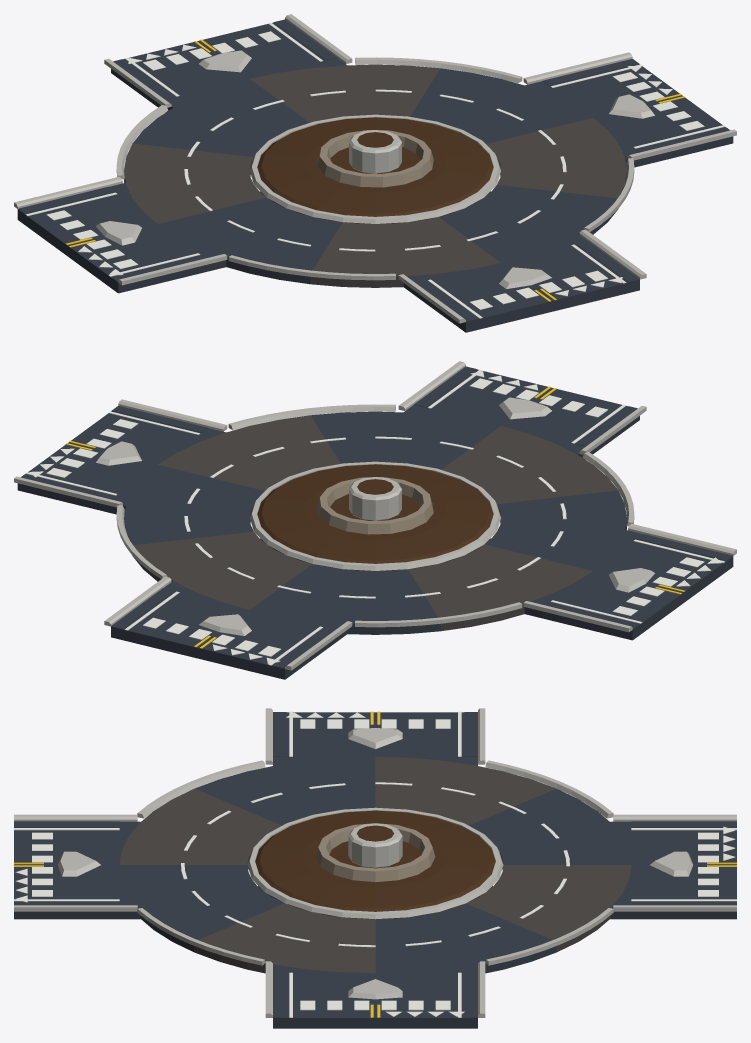
The model's file is ROAD_06.obj.
3 views of the same model, one above another, from view 1: azimuth 30°, elevation 25°; view 2: azimuth 150°, elevation 25°; view 3: azimuth 270°, elevation 25° (orthographic).
Visible parts, largest first — view 1: ROAD_06__surface, ROAD_06__island_soil, ROAD_06__curb, ROAD_06__markings, ROAD_06__crosswalk, ROAD_06__island_curb, ROAD_06__splitter, ROAD_06__island_bed, ROAD_06__island_plinth; view 2: ROAD_06__surface, ROAD_06__island_soil, ROAD_06__curb, ROAD_06__markings, ROAD_06__crosswalk, ROAD_06__island_curb, ROAD_06__splitter, ROAD_06__island_bed, ROAD_06__island_plinth; view 3: ROAD_06__surface, ROAD_06__island_soil, ROAD_06__curb, ROAD_06__markings, ROAD_06__crosswalk, ROAD_06__island_curb, ROAD_06__splitter, ROAD_06__island_bed, ROAD_06__island_plinth.
Part boxes in pixels (x1,y1,x2,y2): ROAD_06__surface: (17,22,733,332); ROAD_06__island_soil: (257,117,493,223); ROAD_06__curb: (14,14,736,323); ROAD_06__markings: (18,19,729,321); ROAD_06__crosswalk: (46,31,704,309); ROAD_06__island_curb: (250,114,500,223); ROAD_06__splitter: (96,50,654,288); ROAD_06__island_bed: (317,130,433,187); ROAD_06__island_plinth: (349,130,401,173); ROAD_06__surface: (17,369,733,679); ROAD_06__island_soil: (257,464,493,570); ROAD_06__curb: (14,361,736,670); ROAD_06__markings: (21,366,732,668); ROAD_06__crosswalk: (46,378,704,656); ROAD_06__island_curb: (250,461,500,570); ROAD_06__splitter: (96,397,654,635); ROAD_06__island_bed: (317,477,433,534); ROAD_06__island_plinth: (349,477,401,520); ROAD_06__surface: (14,712,736,1028); ROAD_06__island_soil: (255,810,495,919); ROAD_06__curb: (14,708,736,1017); ROAD_06__markings: (14,711,736,1017); ROAD_06__crosswalk: (32,719,718,1010); ROAD_06__island_curb: (247,807,503,919); ROAD_06__splitter: (58,728,692,999); ROAD_06__island_bed: (315,823,435,882); ROAD_06__island_plinth: (348,823,402,867).
Size of the model in its own units: 24 by 1.56 by 24.
